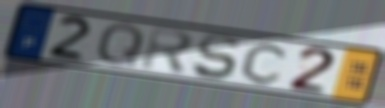2: (286, 46, 339, 96), (46, 14, 96, 65)
C: (239, 41, 293, 86)
Q: (94, 21, 147, 68)
R: (138, 24, 197, 77)
S: (189, 33, 241, 82)
